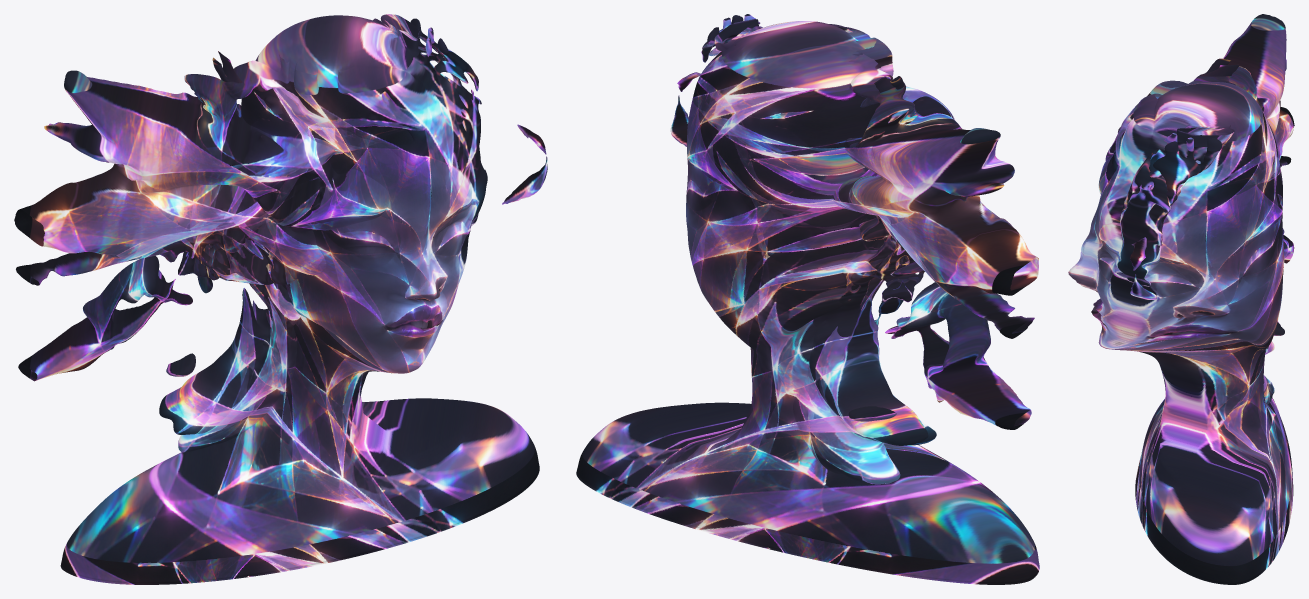
File: prism-bust.glb
3 renders of one model, left to right at view 1: azimuth 30°, elevation 25°; view 2: azimuth 150°, elevation 25°; view 3: azimuth 270°, elevation 25°, orthographic. The views are drawn at different scales.
Parts seen in each view (by area): view 1: 01 | continuous crown, face, mandible, neck, shoulders, bust, 02 | sculpted prismatic mane; view 2: 01 | continuous crown, face, mandible, neck, shoulders, bust, 02 | sculpted prismatic mane; view 3: 01 | continuous crown, face, mandible, neck, shoulders, bust, 02 | sculpted prismatic mane.
Boxes of the visible parts, <box> form: 01 | continuous crown, face, mandible, neck, shoulders, bust: <box>60,15,539,584</box>; 02 | sculpted prismatic mane: <box>14,14,547,452</box>; 01 | continuous crown, face, mandible, neck, shoulders, bust: <box>576,21,1039,584</box>; 02 | sculpted prismatic mane: <box>670,14,1038,484</box>; 01 | continuous crown, face, mandible, neck, shoulders, bust: <box>1068,82,1293,584</box>; 02 | sculpted prismatic mane: <box>1098,14,1294,404</box>.
Bounding box in the file's own units: 3.42 × 3.32 × 1.67.
Materials: 1 (1 with a texture image).
